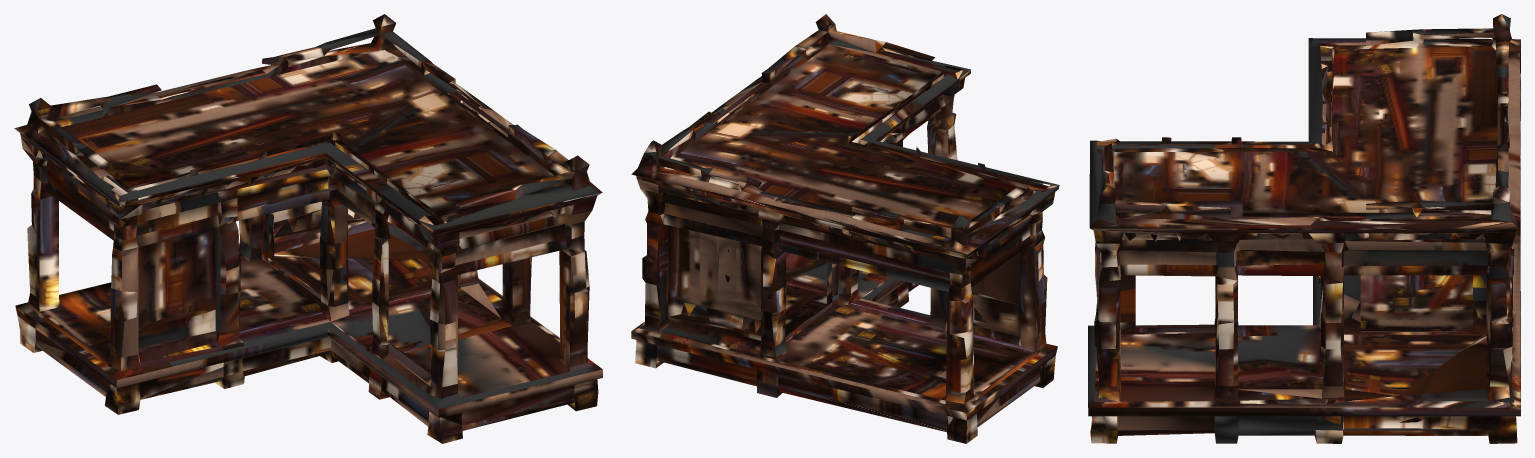
File: HallWayWithTurn1_LOD2.fbx
The picture shows the model from 3 angles, left to right: view 1: azimuth 30°, elevation 25°; view 2: azimuth 150°, elevation 25°; view 3: azimuth 270°, elevation 25°; orthographic projection. The views are drawn at different scales.
Visible parts, largest first — view 1: HallWayWithTurn1_LOD2; view 2: HallWayWithTurn1_LOD2; view 3: HallWayWithTurn1_LOD2.
Part boxes in pixels (left/top/right/bottom): HallWayWithTurn1_LOD2: left=14, top=14, right=602, bottom=443; HallWayWithTurn1_LOD2: left=631, top=14, right=1059, bottom=443; HallWayWithTurn1_LOD2: left=1088, top=14, right=1520, bottom=443.
Size of the model in its own units: 7.9 by 4.96 by 7.71.
1 material, 1 textured.
